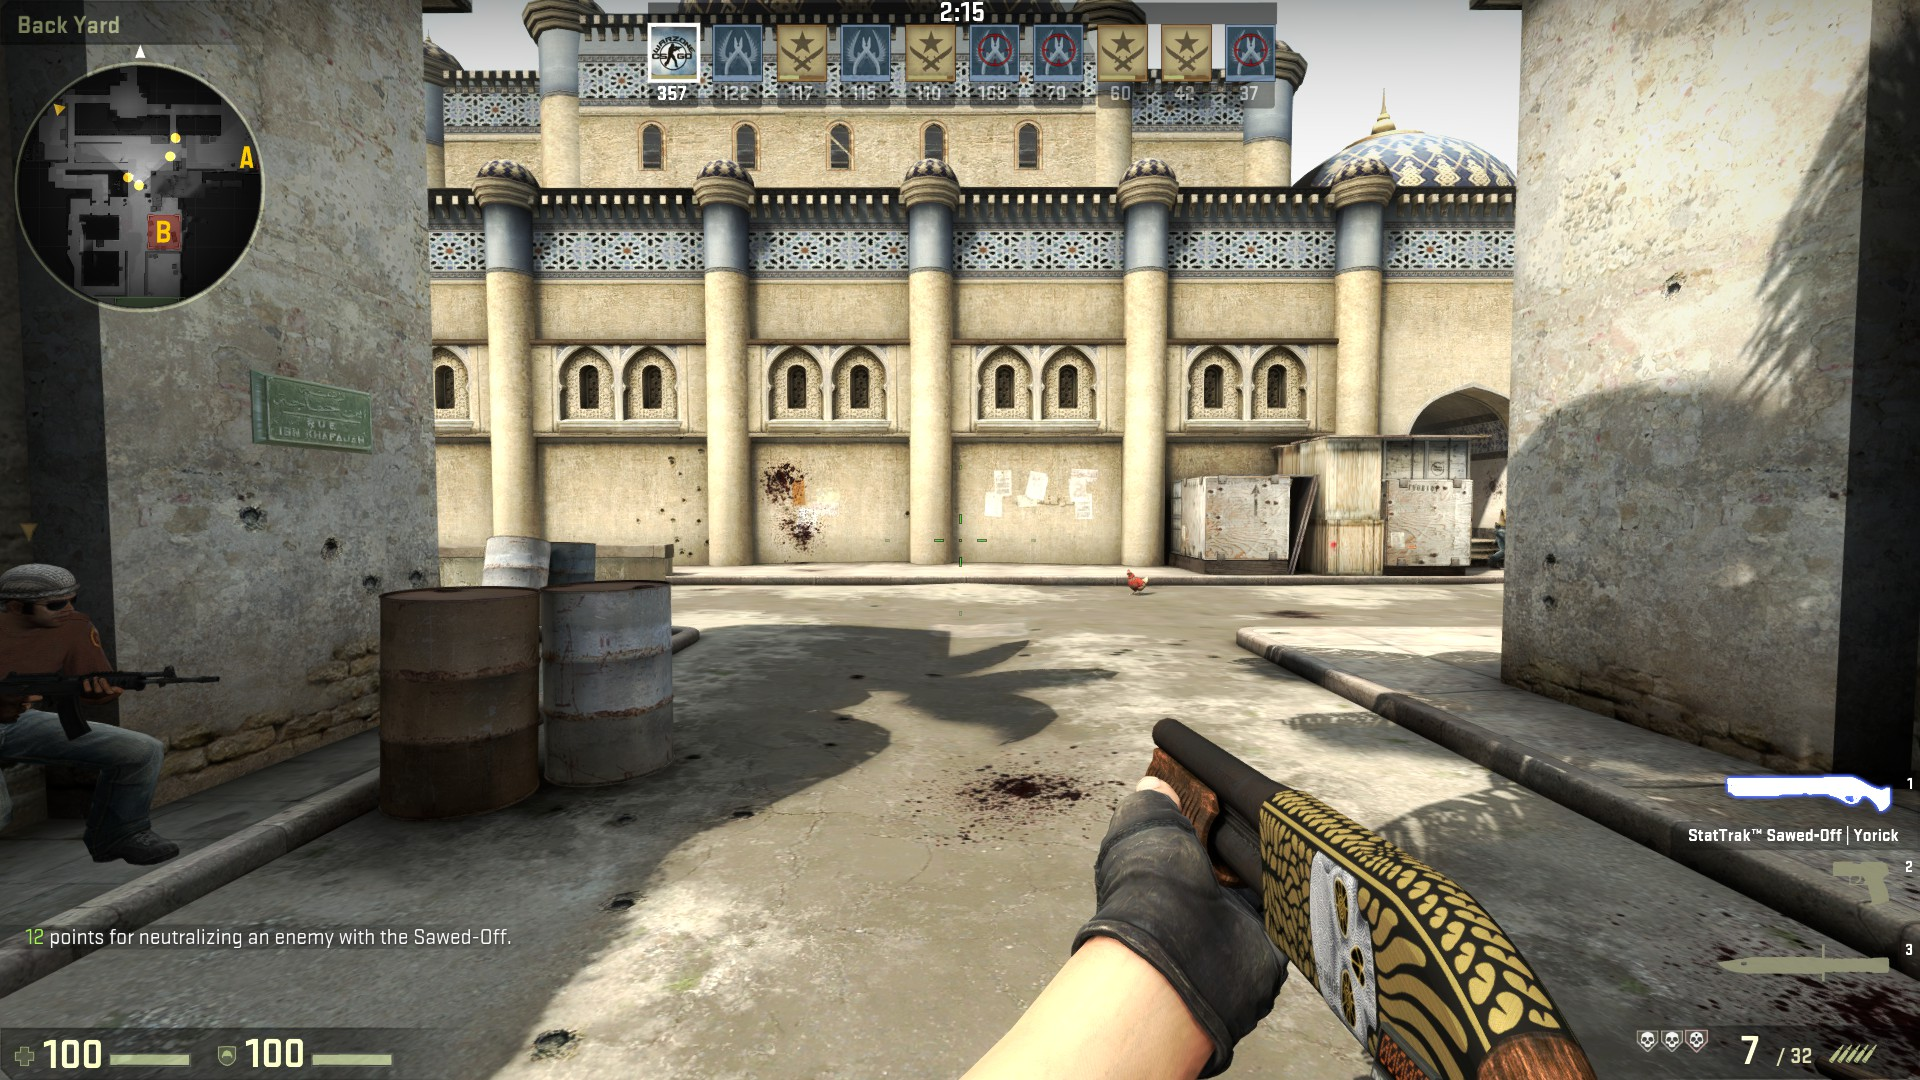t: (1, 539, 146, 873)
th: (1, 556, 80, 632)
